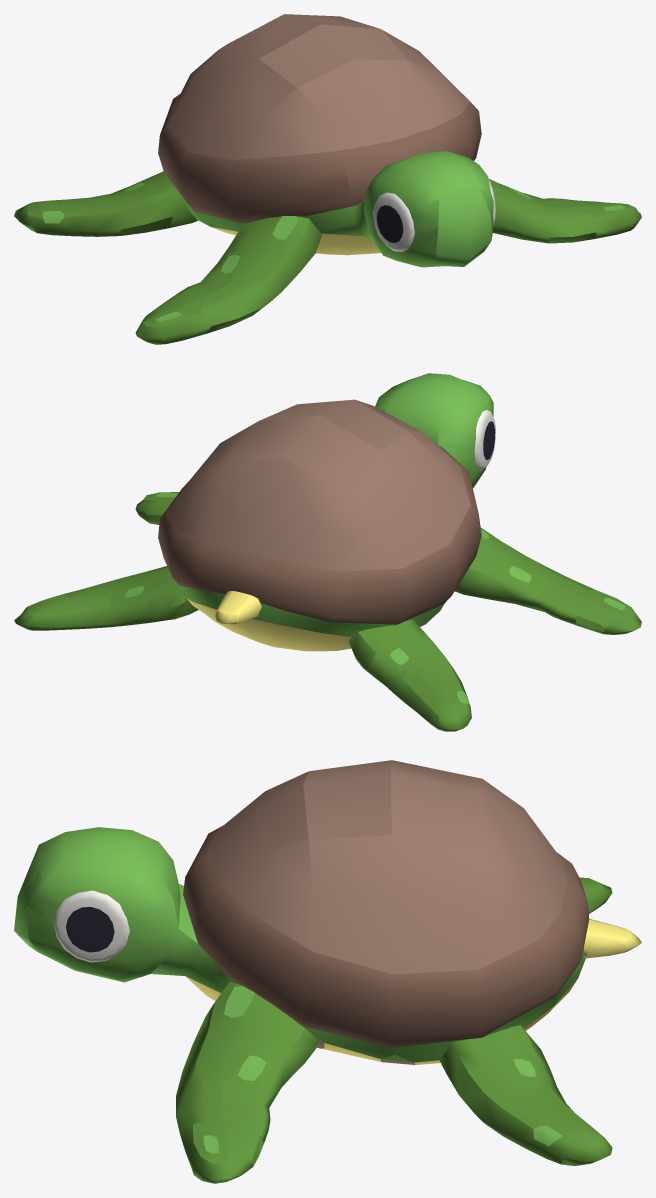
File: turtle.fbx
3 views of the same model, one above another, from view 1: azimuth 30°, elevation 25°; view 2: azimuth 150°, elevation 25°; view 3: azimuth 270°, elevation 25° (orthographic). The views are drawn at different scales.
Visible parts, largest first — view 1: turtle; view 2: turtle; view 3: turtle.
Boxes of the visible parts, x1,y1,x2,y2 form: turtle: (14,14,641,344); turtle: (14,373,641,731); turtle: (14,760,641,1183).
Bounding box in the file's own units: 122 × 48.13 × 105.
Materials: 1 (1 with a texture image).
